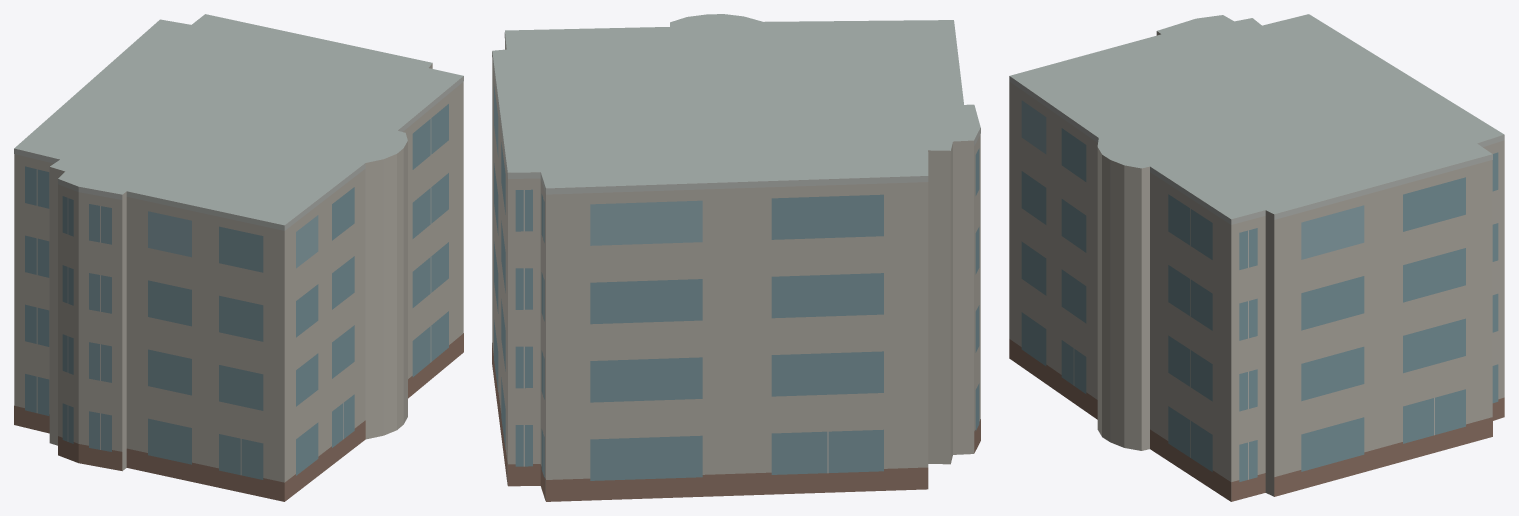
File: survey-upis-33030061.glb
The picture shows the model from 3 angles, left to right: view 1: azimuth 30°, elevation 25°; view 2: azimuth 150°, elevation 25°; view 3: azimuth 270°, elevation 25°; orthographic projection. The views are drawn at different scales.
Visible parts, largest first — view 1: survey-upis-33030061.tmp; view 2: survey-upis-33030061.tmp; view 3: survey-upis-33030061.tmp.
Part boxes in pixels (x1,y1,x2,y2): survey-upis-33030061.tmp: [14, 14, 463, 501]; survey-upis-33030061.tmp: [492, 14, 980, 501]; survey-upis-33030061.tmp: [1009, 14, 1504, 501].
Size of the model in its own units: 19.02 by 12.2 by 19.38.
